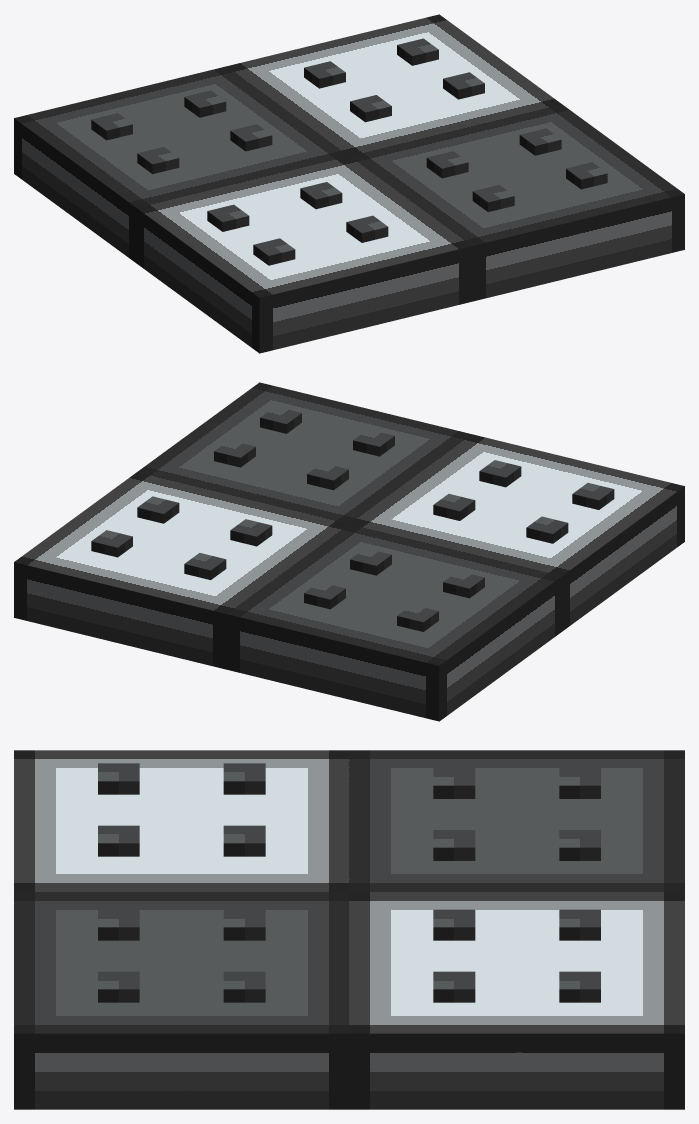
Rendered from hospitalfloor_checkered.fbx.
The picture shows the model from 3 angles, top to bottom: view 1: azimuth 30°, elevation 25°; view 2: azimuth 150°, elevation 25°; view 3: azimuth 270°, elevation 25°; orthographic projection. The views are drawn at different scales.
Visible parts, largest first — view 1: cube.009; view 2: cube.009; view 3: cube.009.
Part boxes in pixels (x1,y1,x2,y2): cube.009: [14, 14, 684, 353]; cube.009: [14, 382, 684, 721]; cube.009: [14, 750, 684, 1109].
Size of the model in its own units: 200 by 29.38 by 200.
